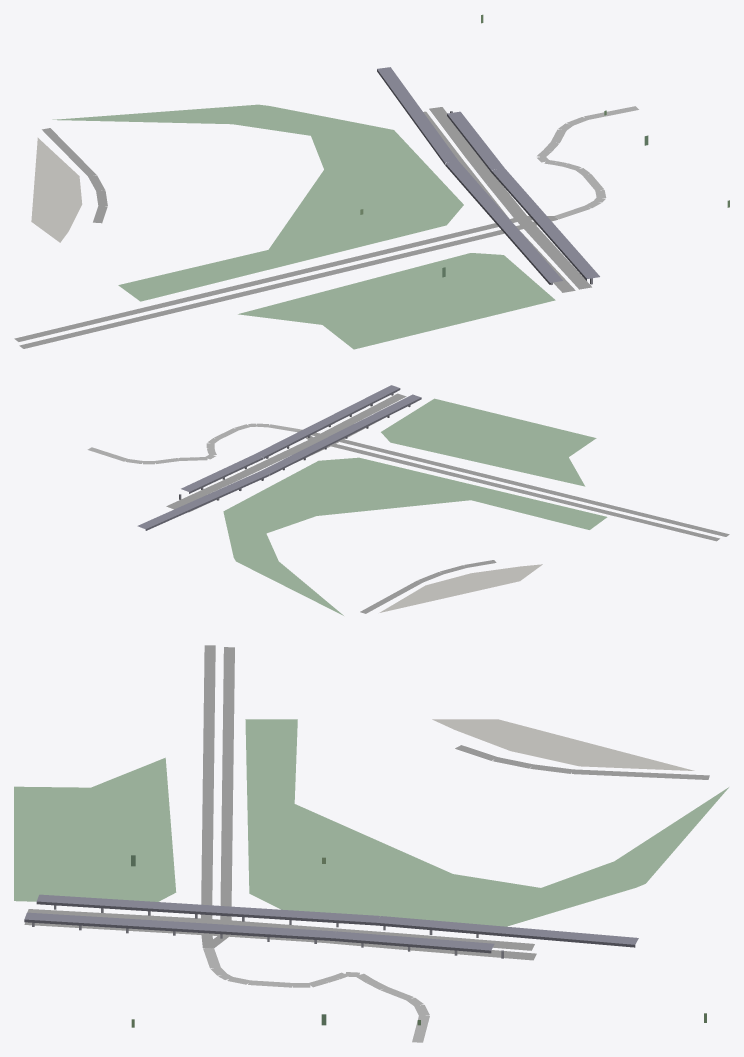
3 renders of one model, top to bottom at view 1: azimuth 30°, elevation 25°; view 2: azimuth 150°, elevation 25°; view 3: azimuth 270°, elevation 25°, orthographic. The views are drawn at different scales.
Bounding box in the file's own units: 595 × 10.54 × 450.
